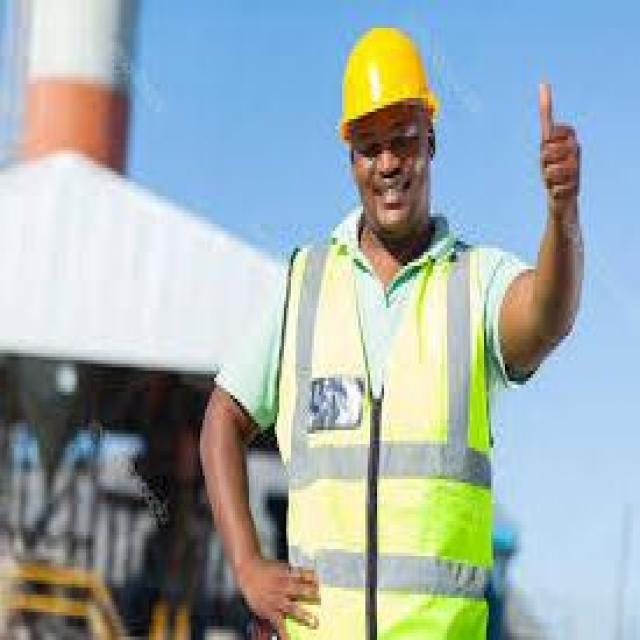reflective_jacket: (267, 220, 505, 636)
safety_helmet: (330, 17, 446, 139)
